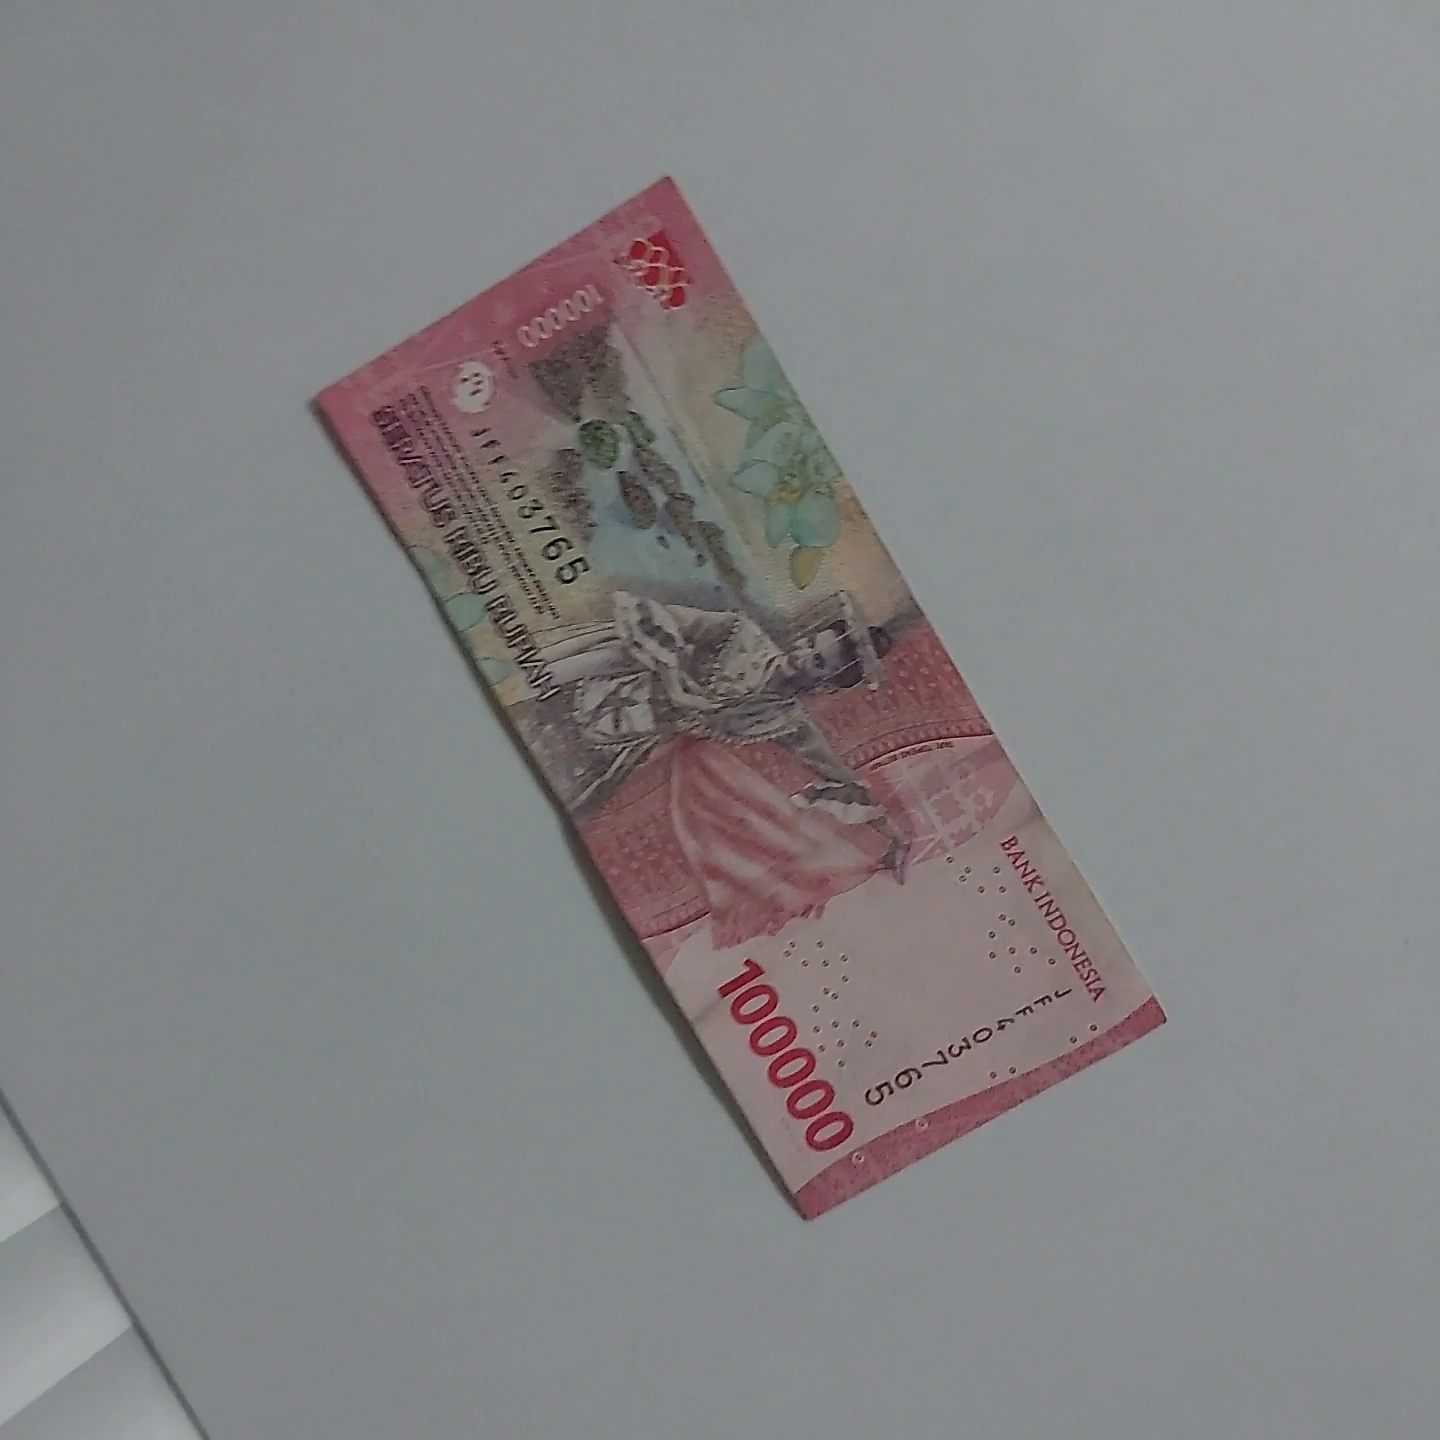100k: (272, 388, 737, 1390)
